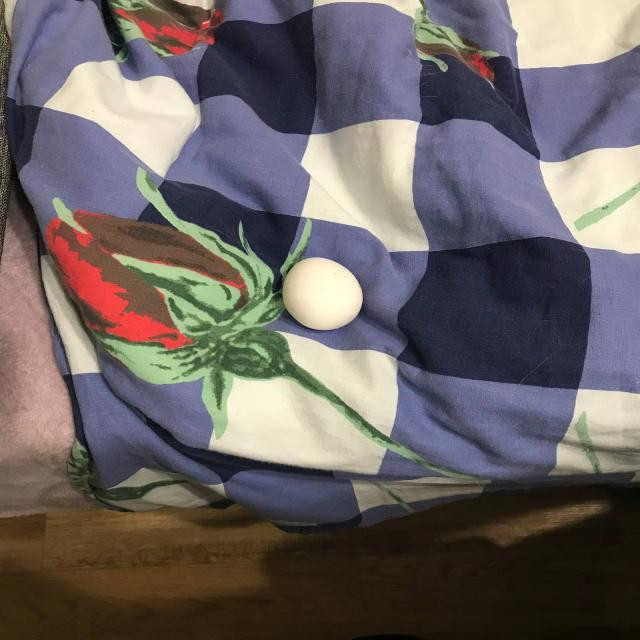egg: (284, 256, 364, 332)
